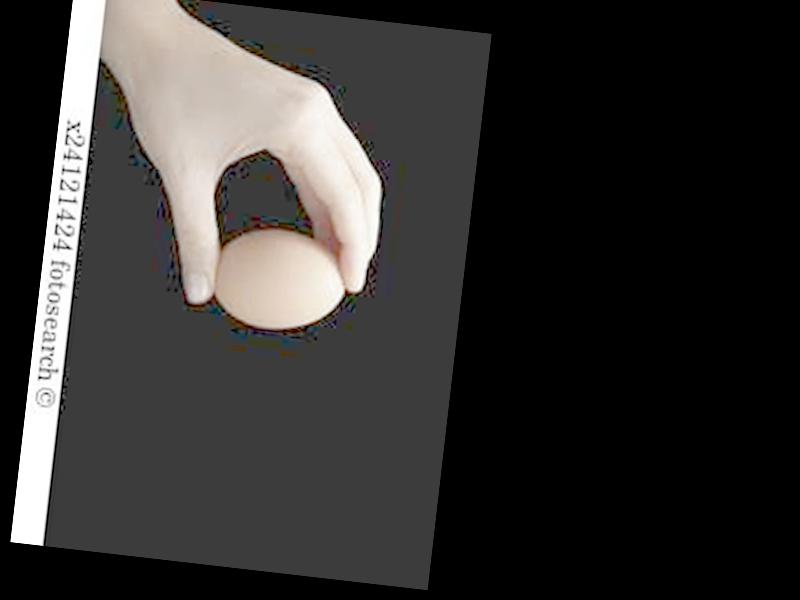Eggs: (209, 224, 354, 335)
